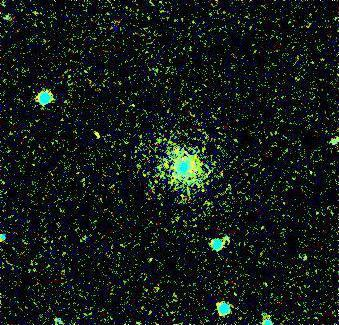star: (83, 122, 113, 152)
